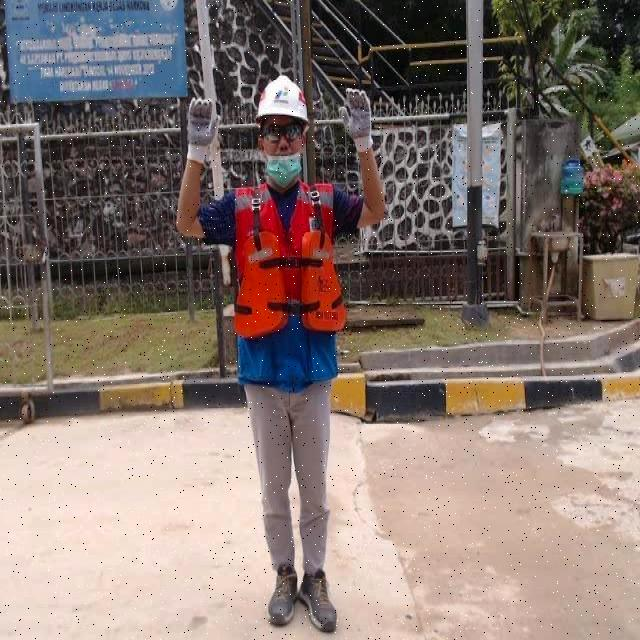Hard_hat: (250, 74, 312, 132)
Person: (194, 73, 383, 636)
Vest: (234, 189, 338, 344)
